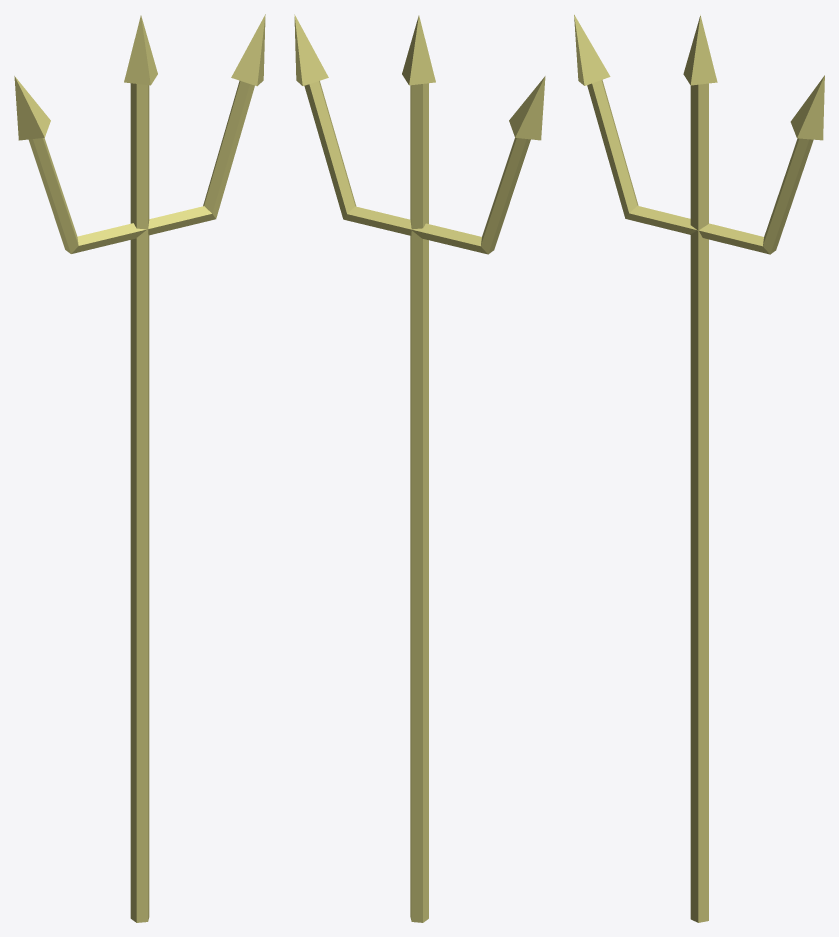
Rendered from fourche.fbx.
3 renders of one model, left to right at view 1: azimuth 30°, elevation 25°; view 2: azimuth 150°, elevation 25°; view 3: azimuth 330°, elevation 25°, orthographic.
Visible parts, largest first — view 1: fourche; view 2: fourche; view 3: fourche.
Part boxes in pixels (<box>): fourche: <box>14,14,265,922</box>; fourche: <box>294,14,545,922</box>; fourche: <box>574,14,824,922</box>.
Size of the model in its own units: 76.34 by 263 by 10.4.
